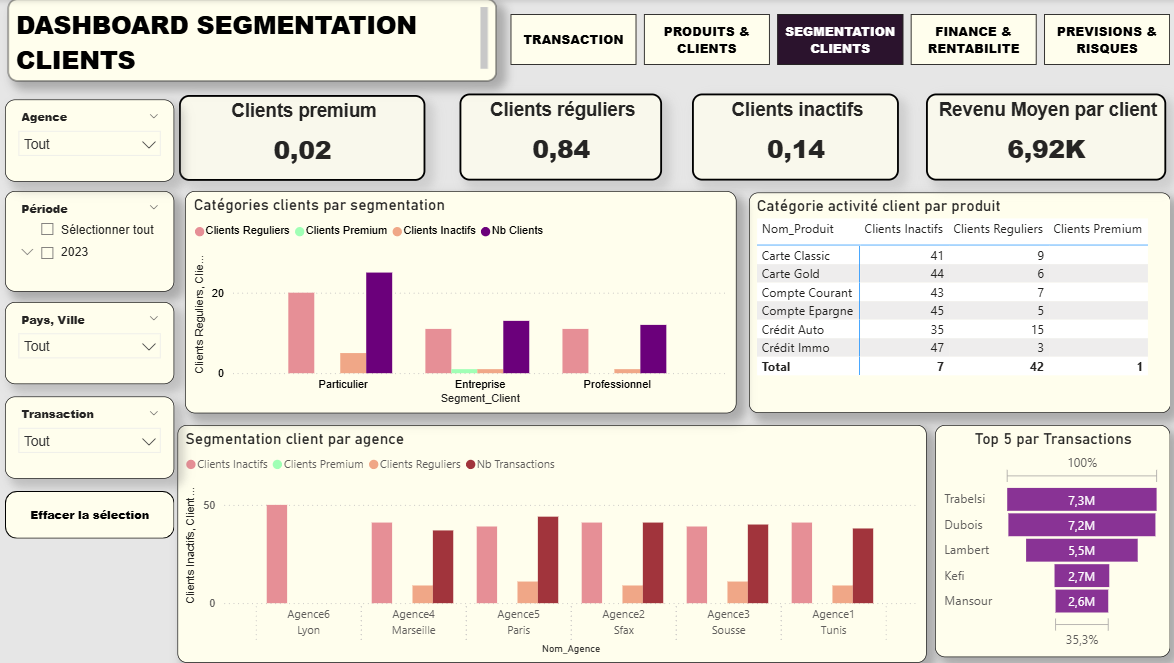

What the dashboard file says about the page in this screenshot:
{"tool":"powerbi","page":{"name":"SEGMENTATION CLIENTS","canvas":[1280,720],"ordinal":3},"visuals":[{"type":"textbox","box":[12.9,0,527.1,88.6],"z":0},{"type":"card","title":"Clients premium","fields":{"Values":["DIM_CLIENT.% Clients Premium"]},"box":[197.1,104.3,265.7,92.9],"z":1000},{"type":"pivotTable","title":"Catégorie activité client par produit","fields":{"Rows":["DIM_PRODUIT.Nom_Produit"],"Values":["DIM_CLIENT.Clients Inactifs","DIM_CLIENT.Clients Reguliers","DIM_CLIENT.Clients Premium"]},"box":[812.9,208.9,455,238],"z":2000},{"type":"clusteredColumnChart","title":"Segmentation client par agence","fields":{"Category":["DIM_AGENCE.Ville","DIM_AGENCE.Nom_Agence"],"Y":["DIM_CLIENT.Clients Inactifs","DIM_CLIENT.Clients Premium","DIM_CLIENT.Clients Reguliers","FACT_TRANSACTIONS.Nb Transactions"]},"box":[196.7,460,808.3,256.7],"z":3000},{"type":"card","title":"Clients réguliers","fields":{"Values":["DIM_CLIENT.% Clients Reguliers"]},"box":[500.3,102,218.6,93.9],"z":4000},{"type":"card","title":"Clients inactifs","fields":{"Values":["DIM_CLIENT.% Clients Inactifs"]},"box":[751.3,102,223.5,93.9],"z":5000},{"type":"slicer","fields":{"Values":["DIM_DATE.Annee","DIM_DATE.Trimestre","DIM_DATE.Nom_Mois","DIM_DATE.Jour_Numero"]},"box":[10,207.1,182.9,108.6],"z":6000},{"type":"slicer","title":"NOM AGENCE","fields":{"Values":["DIM_AGENCE.Nom_Agence"]},"box":[10,108.6,182.9,88.6],"z":7000},{"type":"slicer","title":"NOM AGENCE","fields":{"Values":["DIM_AGENCE.Pays","DIM_AGENCE.Ville"]},"box":[10,327.1,182.9,88.6],"z":8000},{"type":"pageNavigator","box":[555.7,15.7,712.9,55.7],"z":9000},{"type":"slicer","title":"NOM AGENCE","fields":{"Values":["DIM_TYPE_TRANSACTION.Type_Transaction"]},"box":[10,428.6,182.9,88.6],"z":10000},{"type":"card","title":"Revenu Moyen par client","fields":{"Values":["DIM_CLIENT.Revenu par Client"]},"box":[1003.9,102,259.1,93.9],"z":11000},{"type":"actionButton","box":[10,531.4,182.9,51.4],"z":13000},{"type":"clusteredColumnChart","title":"Catégories clients par segmentation","fields":{"Category":["DIM_CLIENT.Segment_Client"],"Y":["DIM_CLIENT.Clients Reguliers","DIM_CLIENT.Clients Premium","DIM_CLIENT.Clients Inactifs","DIM_CLIENT.Nb Clients"]},"box":[203.3,206.7,595,240],"z":14000},{"type":"funnel","title":"Top 5 par Transactions","fields":{"Category":["DIM_CLIENT.Nom_Client"],"Y":["FACT_TRANSACTIONS.Montant Transactions"]},"box":[1013.6,459.9,254.2,251],"z":15000}]}

Visuals, with their boxes in screenshot pixels (x1, y1, x2, y2), scaled from the page's 1280x720 canvas onto the 1174x663 screenshot:
textbox: left=12, top=0, right=495, bottom=82
"Clients premium" card: left=181, top=96, right=424, bottom=182
"Catégorie activité client par produit" pivotTable: left=746, top=192, right=1163, bottom=412
"Segmentation client par agence" clusteredColumnChart: left=180, top=424, right=922, bottom=660
"Clients réguliers" card: left=459, top=94, right=659, bottom=180
"Clients inactifs" card: left=689, top=94, right=894, bottom=180
slicer - DIM_DATE.Annee x DIM_DATE.Trimestre: left=9, top=191, right=177, bottom=291
"NOM AGENCE" slicer: left=9, top=100, right=177, bottom=182
"NOM AGENCE" slicer: left=9, top=301, right=177, bottom=383
pageNavigator: left=510, top=14, right=1164, bottom=66
"NOM AGENCE" slicer: left=9, top=395, right=177, bottom=476
"Revenu Moyen par client" card: left=921, top=94, right=1158, bottom=180
actionButton: left=9, top=489, right=177, bottom=537
"Catégories clients par segmentation" clusteredColumnChart: left=186, top=190, right=732, bottom=411
"Top 5 par Transactions" funnel: left=930, top=423, right=1163, bottom=655
